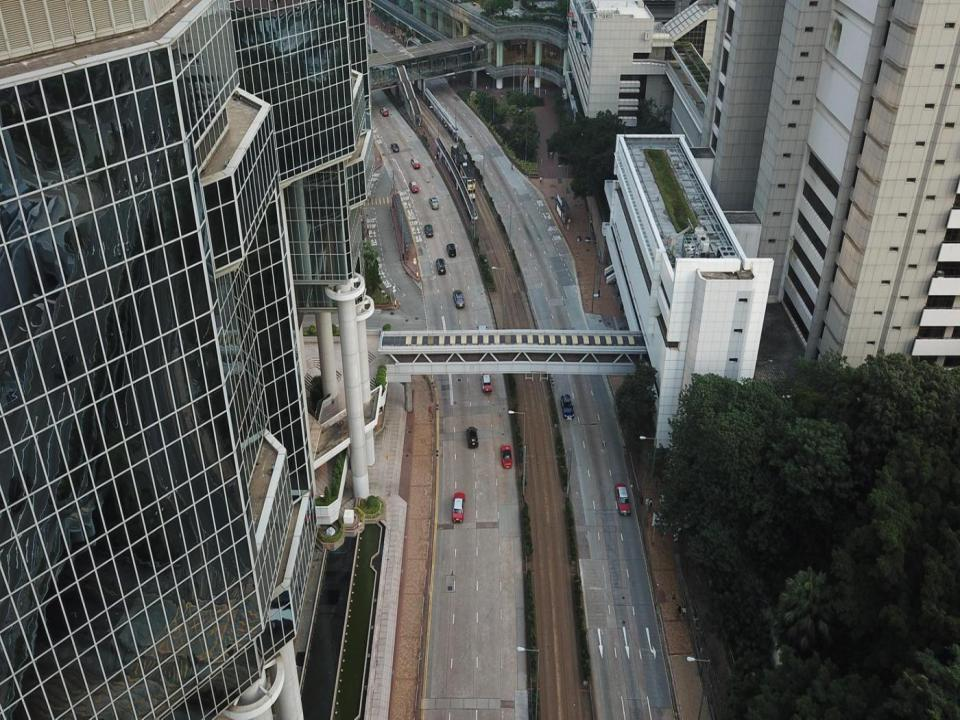car: (613, 481, 632, 518), (450, 492, 466, 523), (560, 393, 576, 421), (499, 444, 513, 469), (466, 426, 480, 448), (481, 368, 493, 393), (452, 288, 465, 310), (444, 241, 458, 258), (435, 256, 447, 275), (408, 178, 420, 195), (428, 194, 439, 209), (409, 157, 421, 170), (379, 104, 390, 117), (424, 223, 433, 237), (391, 140, 400, 152)
